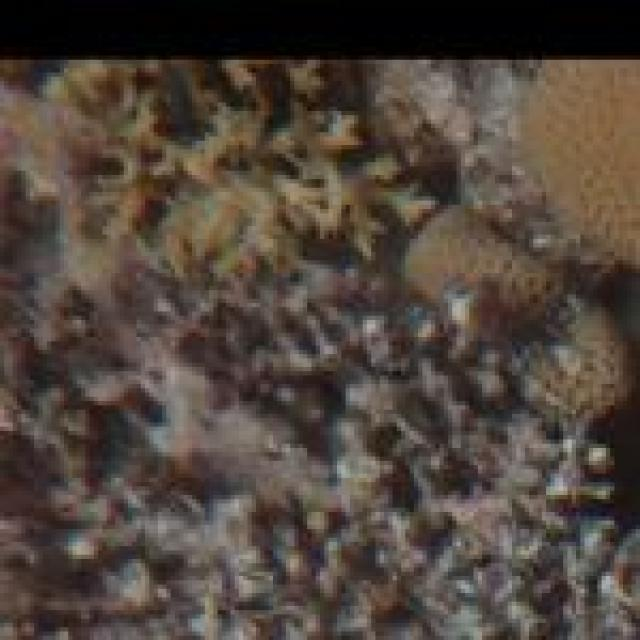Healthy Coral: (400, 60, 640, 435)
